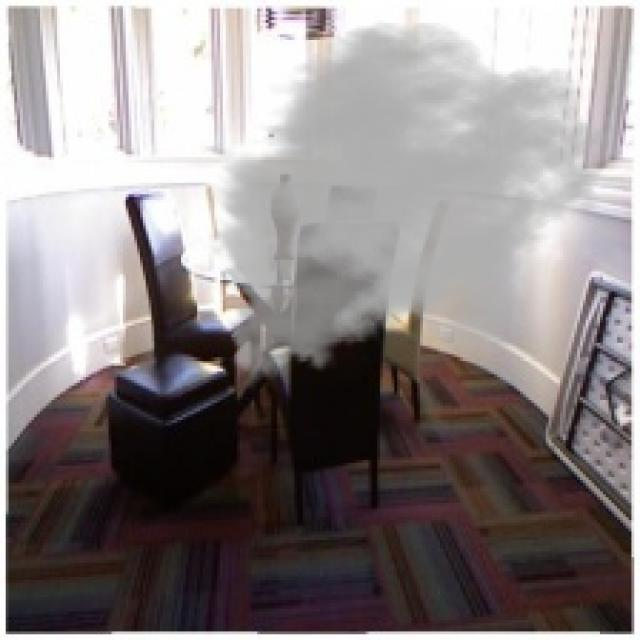smoke: (206, 20, 617, 394)
